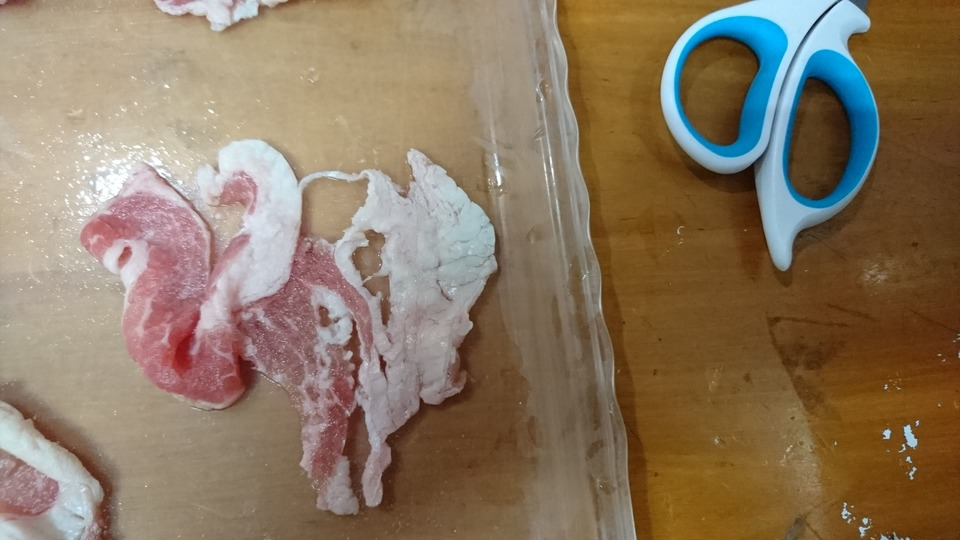restructured meat: (87, 131, 498, 513)
